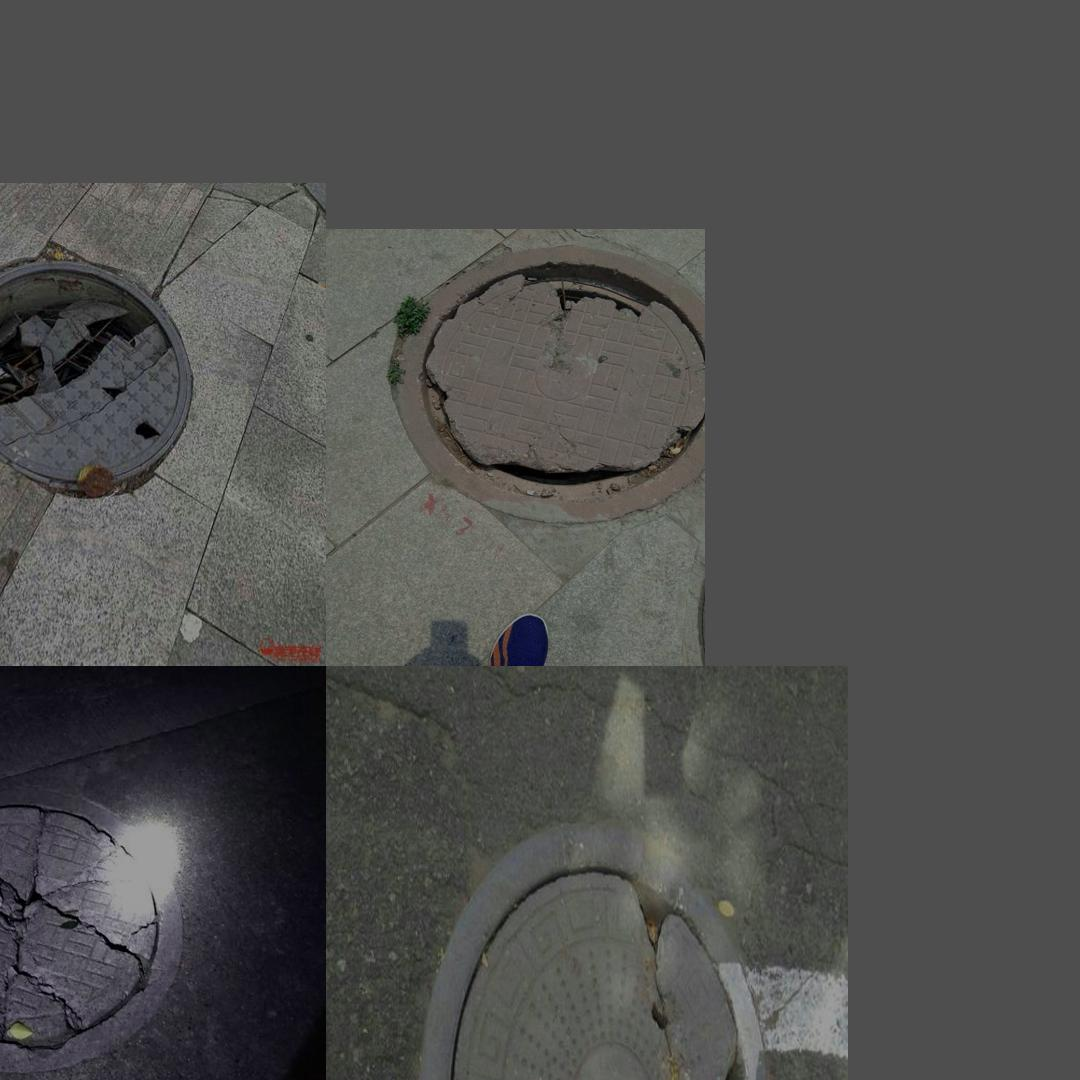broke: (404, 805, 779, 1080), (385, 240, 705, 527), (0, 793, 194, 1062), (0, 252, 202, 502)
